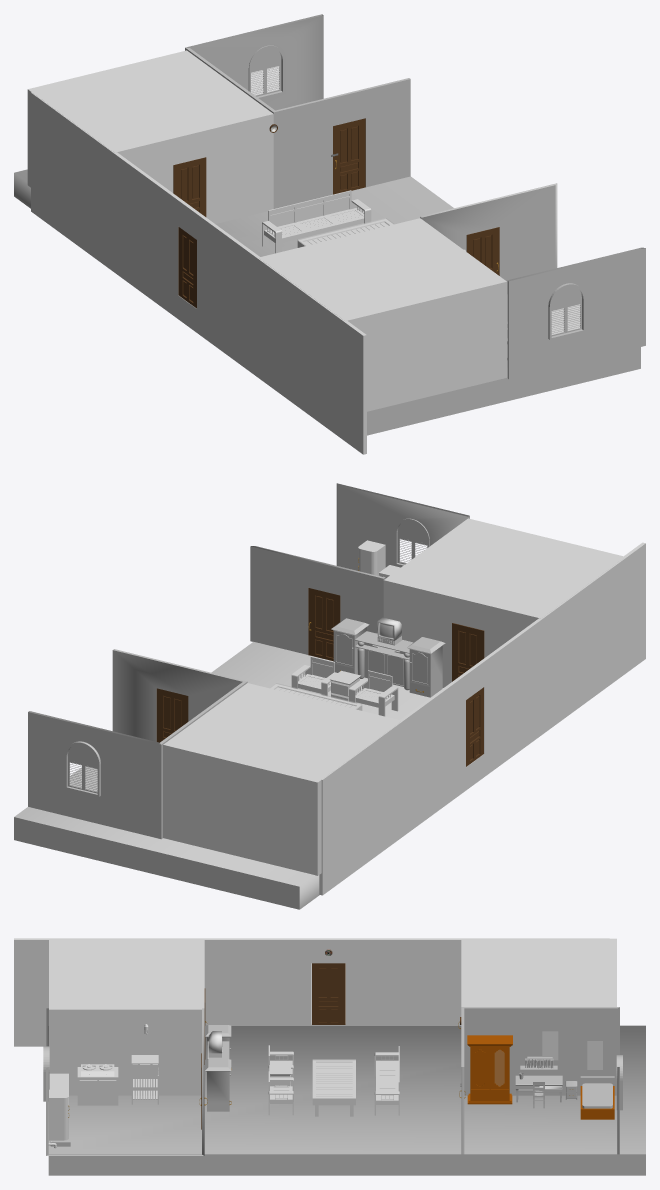
File: MainFix.fbx
3 renders of one model, top to bottom at view 1: azimuth 30°, elevation 25°; view 2: azimuth 150°, elevation 25°; view 3: azimuth 270°, elevation 25°, orthographic. The views are drawn at different scales.
Visible parts, largest first — view 1: Cube.004, Cube, Cube.003, Wall.002, Wall.001, Floor, Cube.014, Door.003, Wall.003, Door.001, Door, Door.004 (+2 smaller); view 2: Cube.004, Cube.003, Cube, Wall.001, Floor, Wall.002, Cube.052, Door.004, Wall.003, Cube.022, Door.002, Door.003 (+6 smaller); view 3: Floor, Cube.004, Cube, Cube.003, Wall.001, Cupboard, Cube.001, Door, Cube.052, Cube.018, Wall.078, Cube.014 (+14 smaller).
Part boxes in pixels (x1=…): Cube.004: x1=31, y1=92, x2=366, y2=454; Cube: x1=259, y1=218, x2=506, y2=411; Cube.003: x1=27, y1=50, x2=273, y2=223; Wall.002: x1=420, y1=183, x2=645, y2=378; Wall.001: x1=185, y1=14, x2=410, y2=208; Floor: x1=14, y1=169, x2=640, y2=435; Cube.014: x1=262, y1=190, x2=371, y2=253; Door.003: x1=333, y1=118, x2=365, y2=194; Wall.003: x1=248, y1=45, x2=284, y2=98; Door.001: x1=173, y1=157, x2=206, y2=216; Door: x1=178, y1=226, x2=196, y2=308; Door.004: x1=466, y1=227, x2=499, y2=275; Cube.004: x1=319, y1=542, x2=645, y2=895; Cube.003: x1=163, y1=683, x2=401, y2=875; Cube: x1=383, y1=518, x2=625, y2=687; Wall.001: x1=28, y1=649, x2=247, y2=839; Floor: x1=14, y1=641, x2=443, y2=909; Wall.002: x1=250, y1=483, x2=469, y2=654; Cube.052: x1=331, y1=618, x2=445, y2=697; Door.004: x1=308, y1=588, x2=340, y2=661; Wall.003: x1=65, y1=741, x2=100, y2=796; Cube.022: x1=349, y1=670, x2=398, y2=716; Door.002: x1=452, y1=623, x2=484, y2=681; Door.003: x1=156, y1=688, x2=188, y2=742; Floor: x1=48, y1=1025, x2=645, y2=1175; Cube.004: x1=14, y1=938, x2=609, y2=1046; Cube: x1=49, y1=939, x2=204, y2=1095; Cube.003: x1=461, y1=938, x2=616, y2=1006; Wall.001: x1=461, y1=1007, x2=619, y2=1154; Cupboard: x1=467, y1=1035, x2=512, y2=1104; Cube.001: x1=312, y1=1060, x2=355, y2=1116; Door: x1=312, y1=963, x2=345, y2=1024; Cube.052: x1=205, y1=1025, x2=231, y2=1111; Cube.018: x1=312, y1=1059, x2=355, y2=1098; Wall.078: x1=580, y1=1076, x2=614, y2=1119; Cube.014: x1=374, y1=1046, x2=399, y2=1115.
Bounding box in the file's own units: 7830 × 3017 × 15922.
